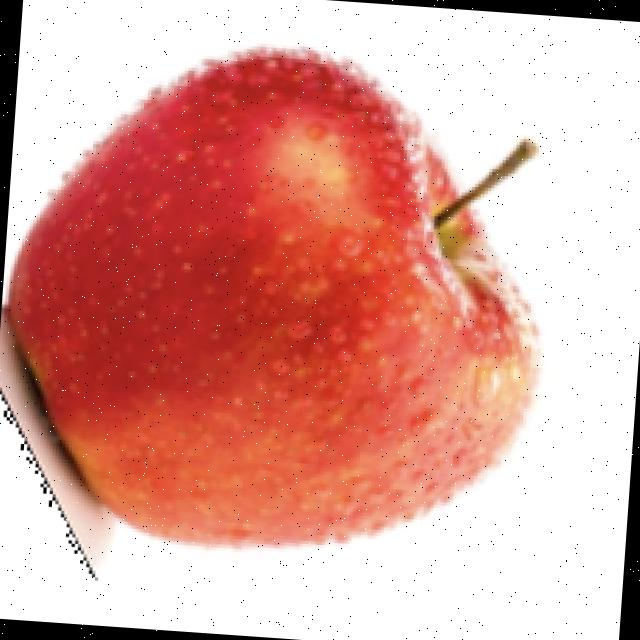apple: (0, 40, 546, 580)
